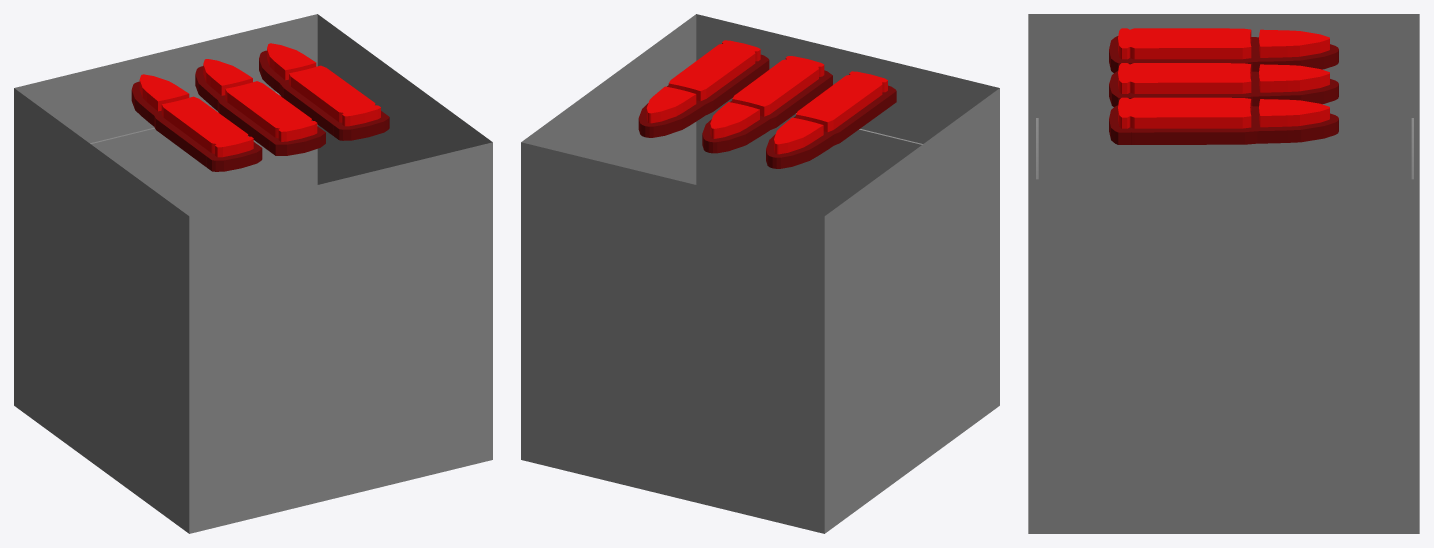
The model's file is WeaponRoom.fbx.
The picture shows the model from 3 angles, left to right: view 1: azimuth 30°, elevation 25°; view 2: azimuth 150°, elevation 25°; view 3: azimuth 270°, elevation 25°; orthographic projection. The views are drawn at different scales.
Visible parts, largest first — view 1: WeaponsRoom; view 2: WeaponsRoom; view 3: WeaponsRoom.
Part boxes in pixels (x1,y1,x2,y2): WeaponsRoom: [14, 14, 492, 533]; WeaponsRoom: [521, 14, 999, 533]; WeaponsRoom: [1028, 14, 1419, 533].
Bounding box in the file's own units: 197 × 210 × 197.
